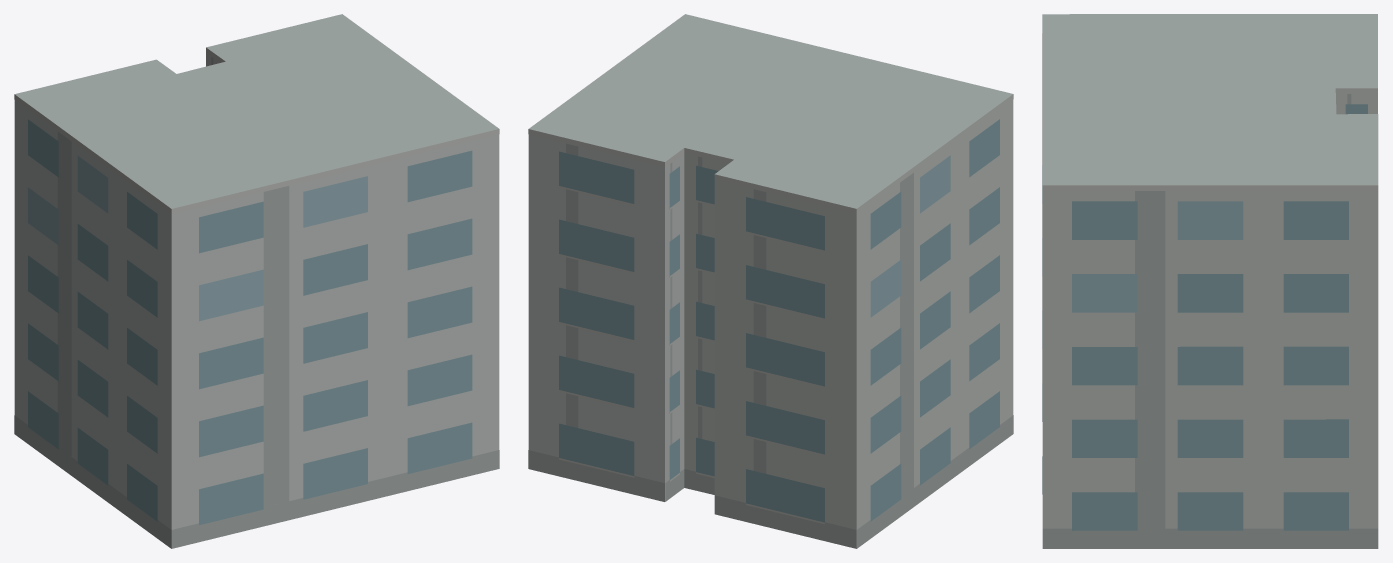
The model's file is survey-upis-32813374.glb.
The picture shows the model from 3 angles, left to right: view 1: azimuth 30°, elevation 25°; view 2: azimuth 150°, elevation 25°; view 3: azimuth 270°, elevation 25°; orthographic projection. The views are drawn at different scales.
Visible parts, largest first — view 1: survey-upis-32813374.tmp; view 2: survey-upis-32813374.tmp; view 3: survey-upis-32813374.tmp.
Part boxes in pixels (<box>): survey-upis-32813374.tmp: <box>14,14,499,548</box>; survey-upis-32813374.tmp: <box>528,14,1013,548</box>; survey-upis-32813374.tmp: <box>1042,14,1378,548</box>.
Size of the model in its own units: 15.42 by 15.25 by 12.79.
